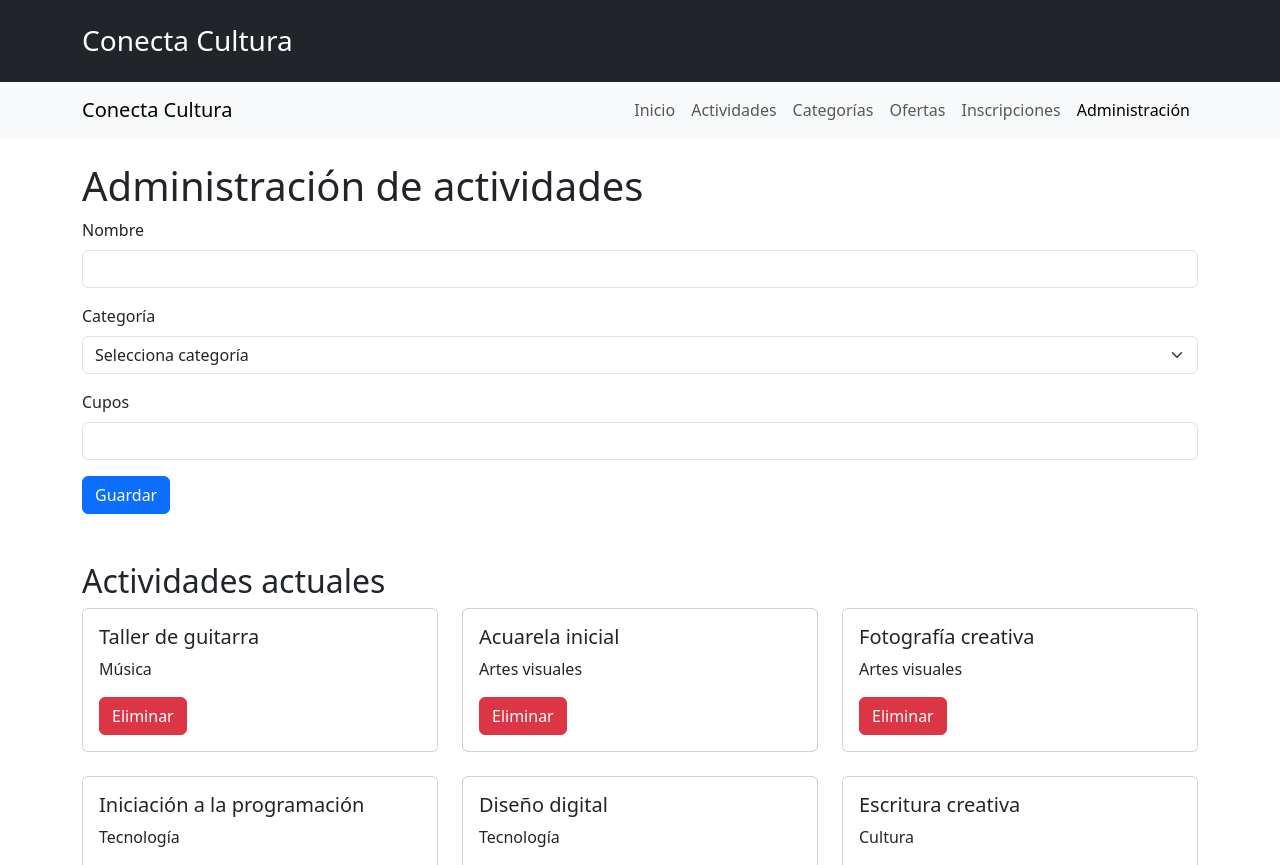
App › permite crear y eliminar una actividad desde la administración
Type "Taller de cerámica" into the field labelled "Nombre". click: point(640, 269)
box: top-left (82, 250), bottom-right (1198, 288)
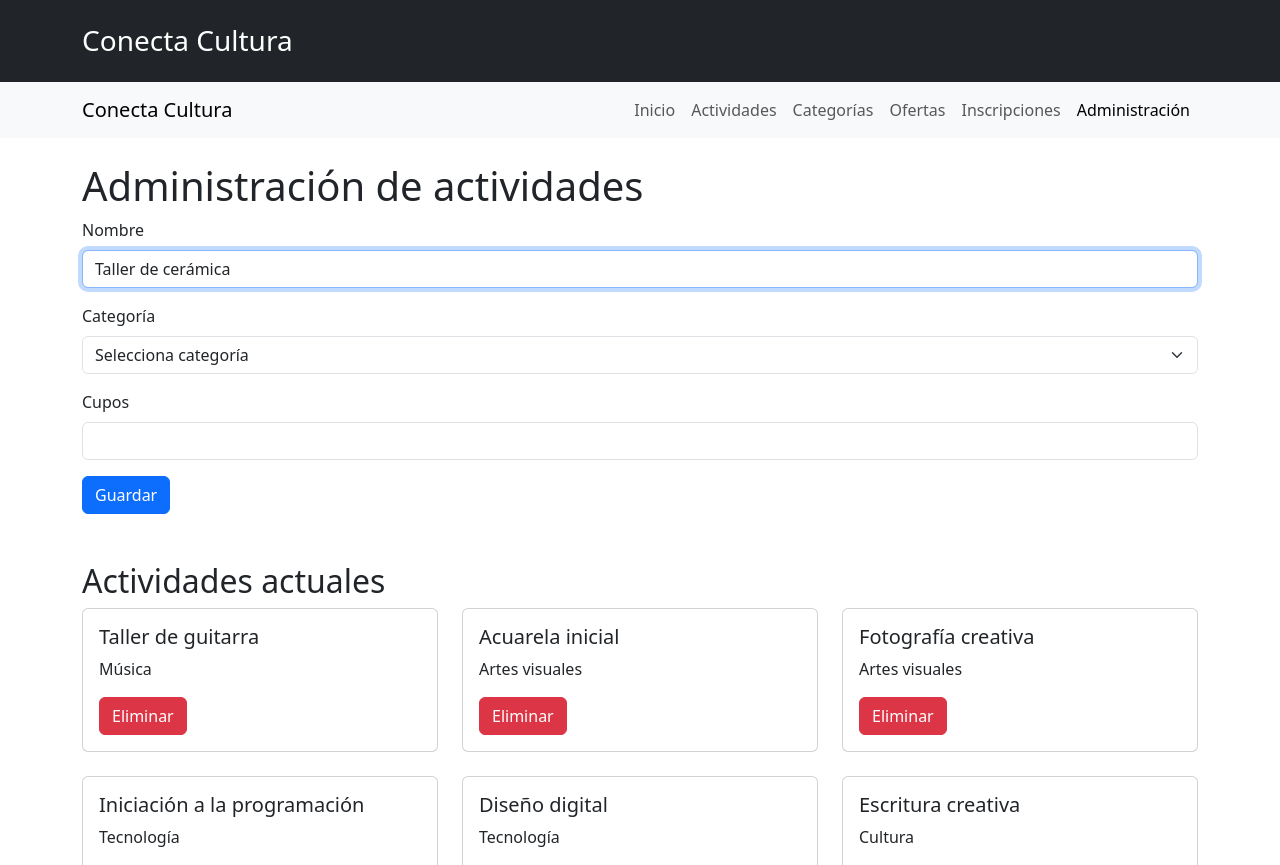
Select "Artes visuales" in the dropdown labelled "Categoría". click: point(640, 355)
box: top-left (82, 336), bottom-right (1198, 374)
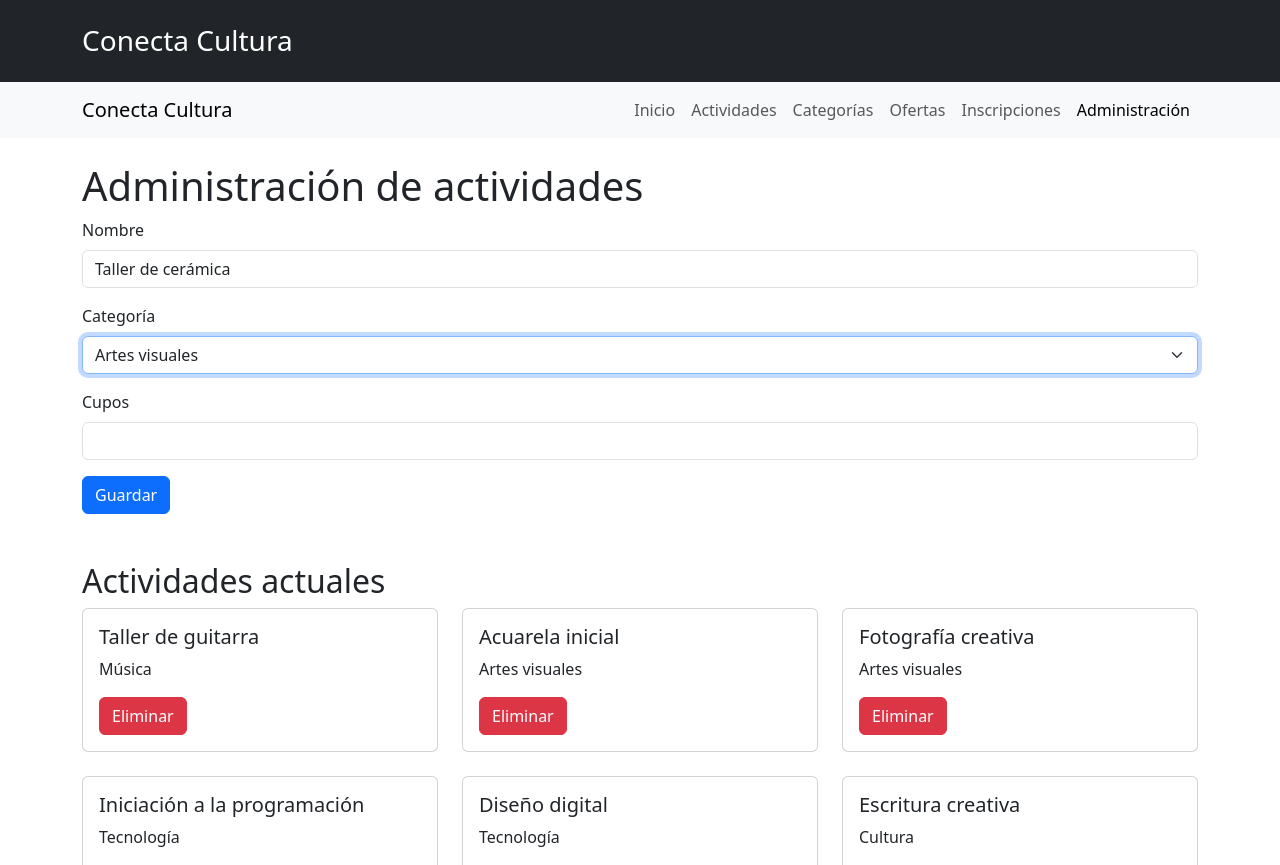
Type "4" into the number field labelled "Cupos". click: point(640, 441)
box: top-left (82, 422), bottom-right (1198, 460)
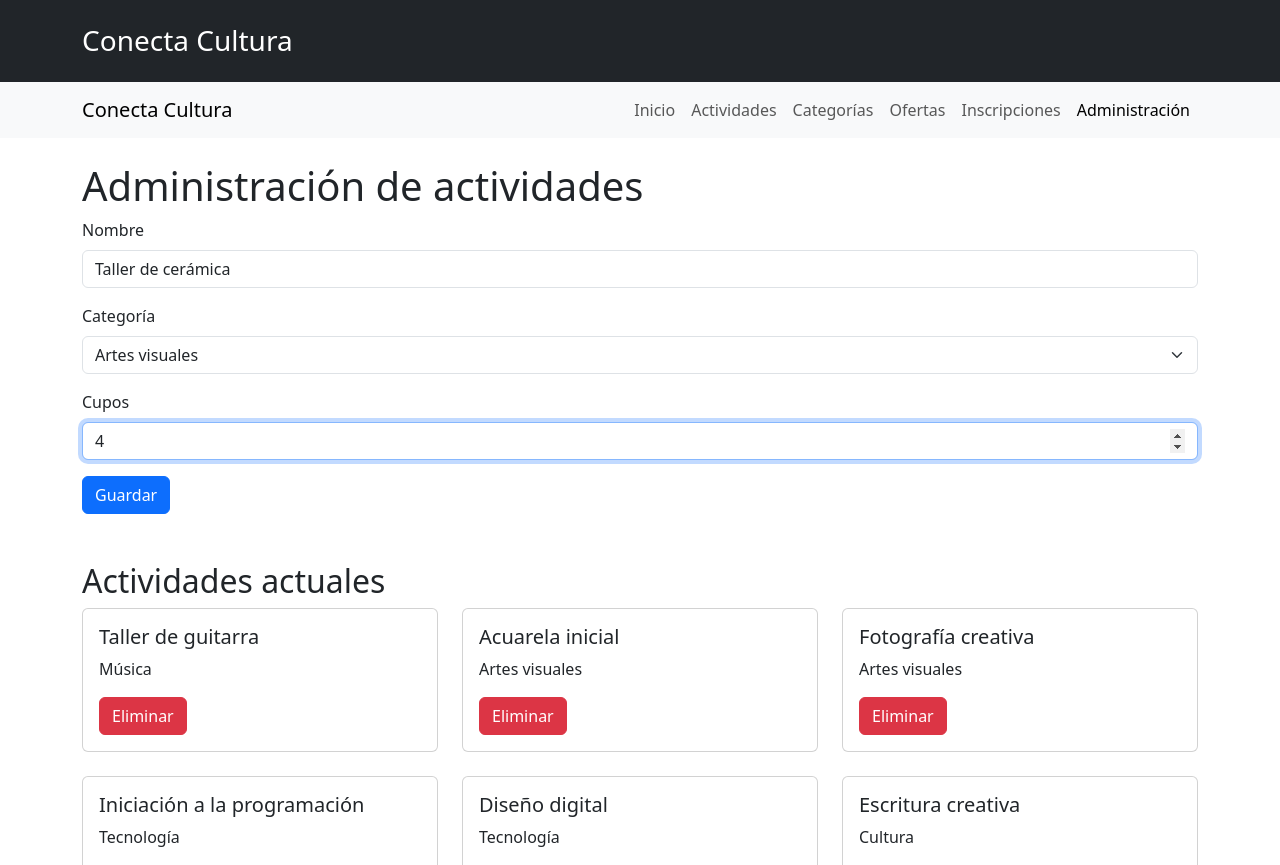
Click the button "Guardar". click: point(126, 495)
box: top-left (82, 476), bottom-right (170, 514)
(page scrolled)
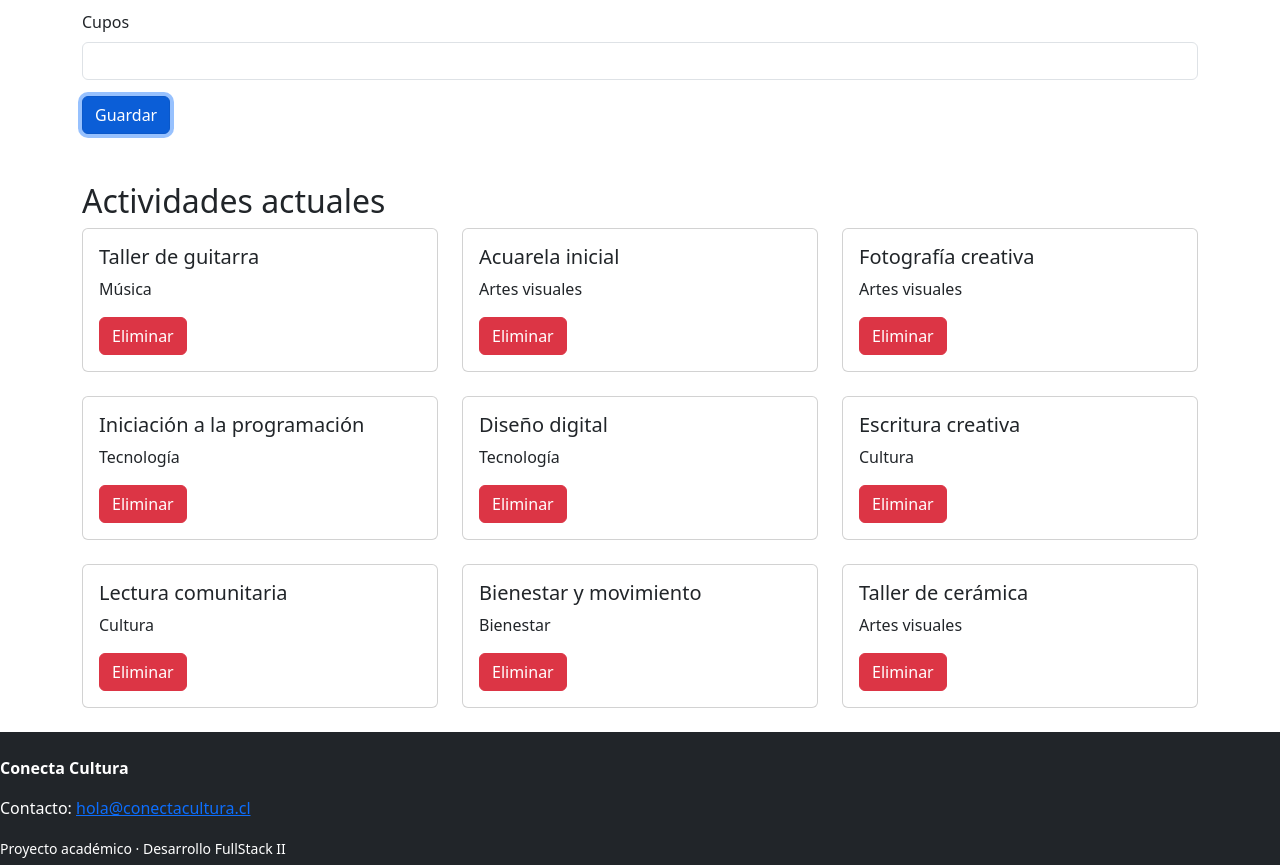
Check: the heading "Taller de cerámica" is shown, box top-left (859, 579), bottom-right (1028, 606)
Click the button "Eliminar" below "Taller de cerámica". click: point(903, 672)
box: top-left (859, 653), bottom-right (947, 691)
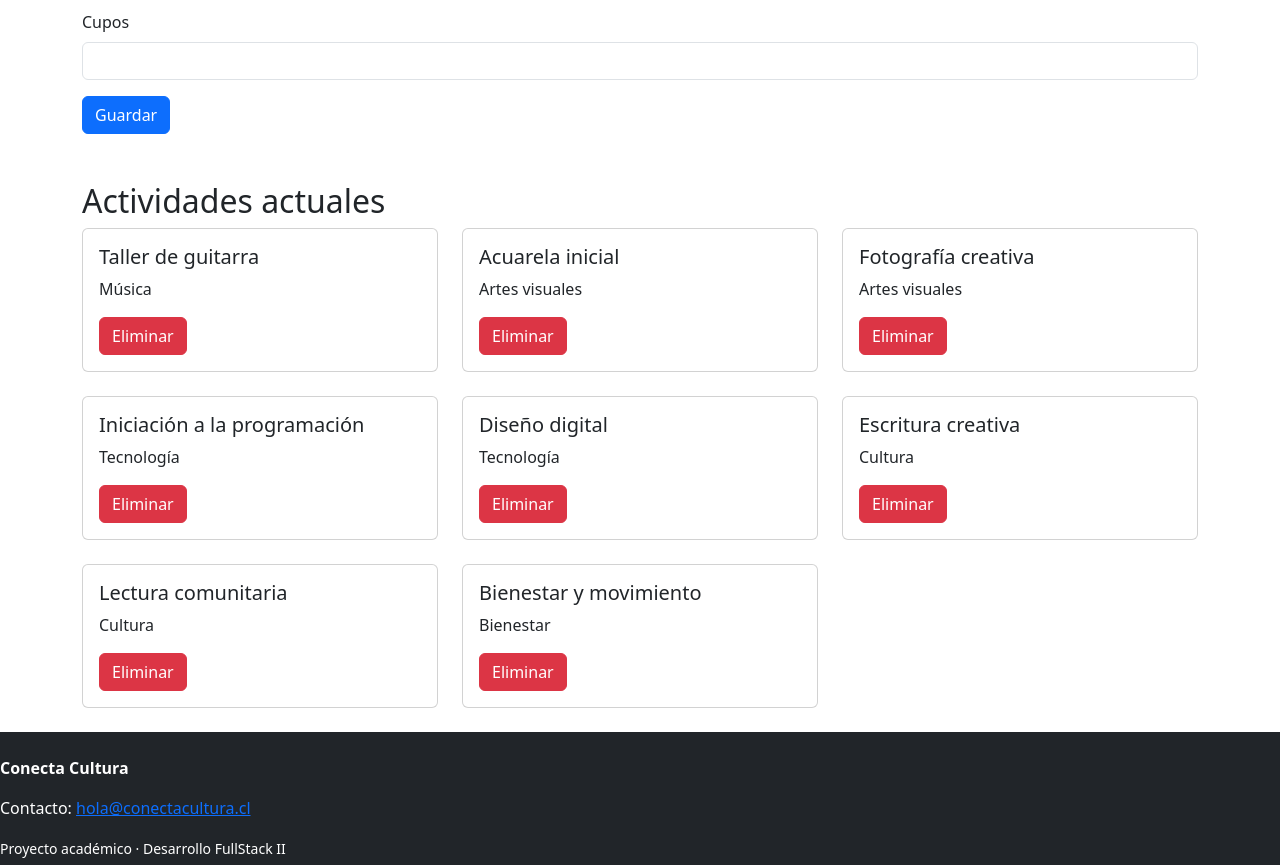
Check: the heading "Taller de cerámica" is gone
